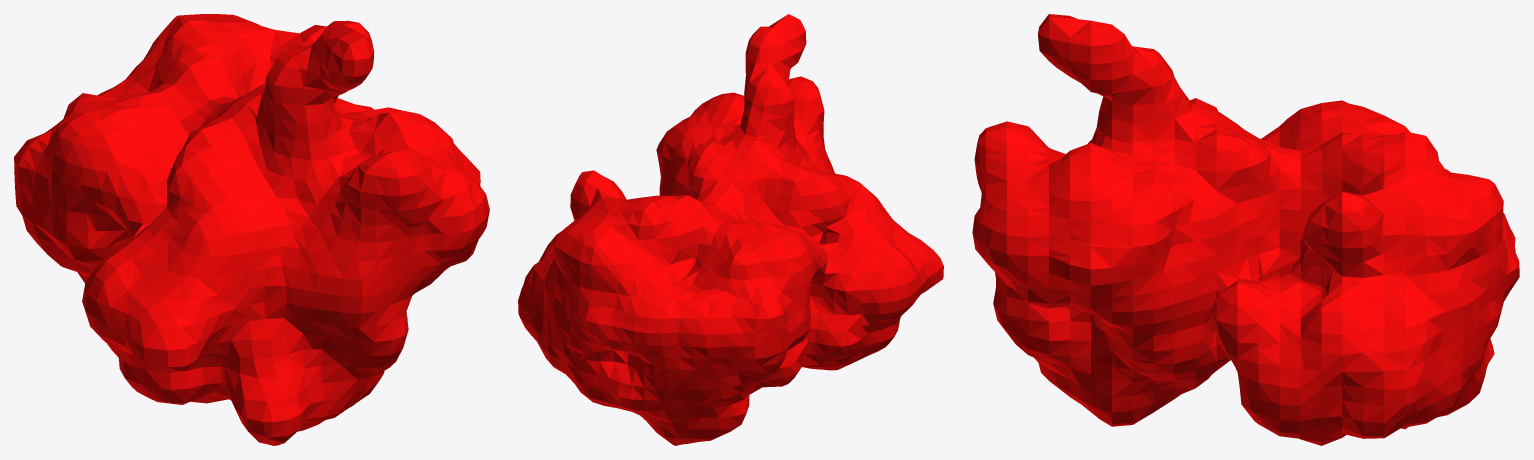
File: tcdA_coarse.dae
3 renders of one model, left to right at view 1: azimuth 30°, elevation 25°; view 2: azimuth 150°, elevation 25°; view 3: azimuth 270°, elevation 25°, orthographic. The views are drawn at different scales.
Parts seen in each view (by area): view 1: tcdA; view 2: tcdA; view 3: tcdA.
Boxes of the visible parts, left/top/right/bottom form: tcdA: left=14, top=14, right=489, bottom=445; tcdA: left=518, top=14, right=943, bottom=445; tcdA: left=972, top=14, right=1519, bottom=445.
Bounding box in the file's own units: 79.59 × 81.51 × 94.95.
